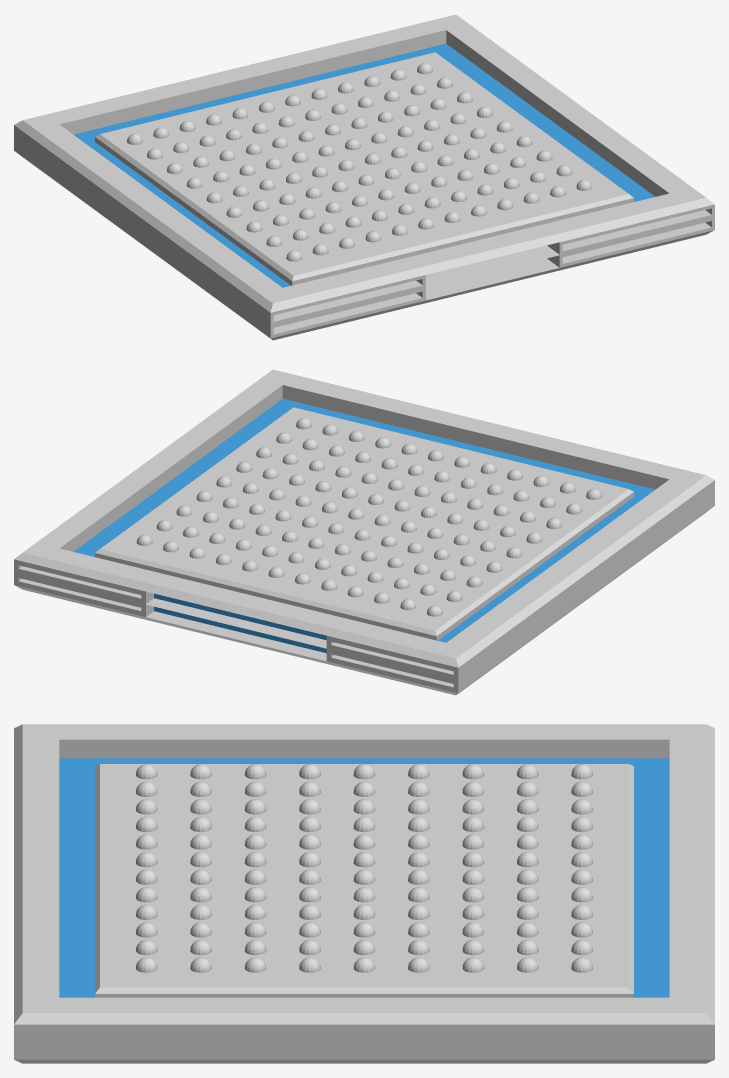
File: Floor tile.fbx
The picture shows the model from 3 angles, top to bottom: view 1: azimuth 30°, elevation 25°; view 2: azimuth 150°, elevation 25°; view 3: azimuth 270°, elevation 25°; orthographic projection. The views are drawn at different scales.
Visible parts, largest first — view 1: Plane; view 2: Plane; view 3: Plane.
Part boxes in pixels (box(x1,y1,x2,y2)): Plane: box(14, 14, 714, 340); Plane: box(14, 369, 714, 695); Plane: box(14, 724, 714, 1063).
Bounding box in the file's own units: 500 × 45.94 × 500.
